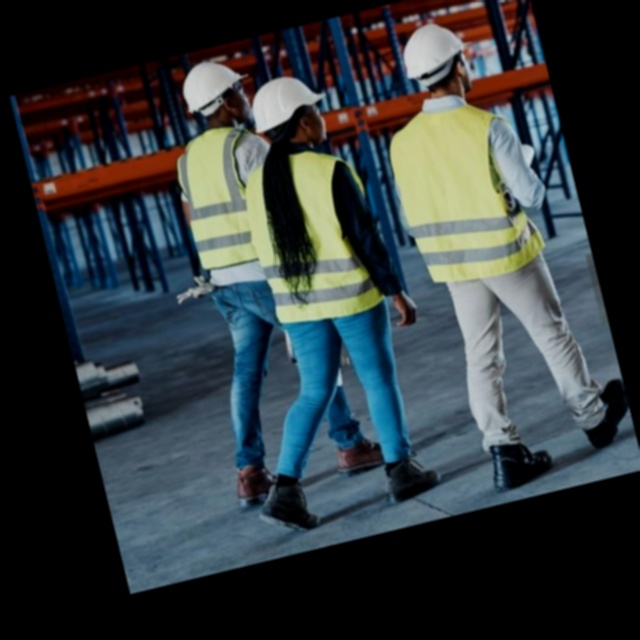Con_Casco: (244, 68, 338, 157), (396, 16, 479, 105), (178, 52, 255, 129)
Con_Chaleco: (383, 91, 550, 292), (237, 143, 395, 336), (167, 122, 283, 275)
